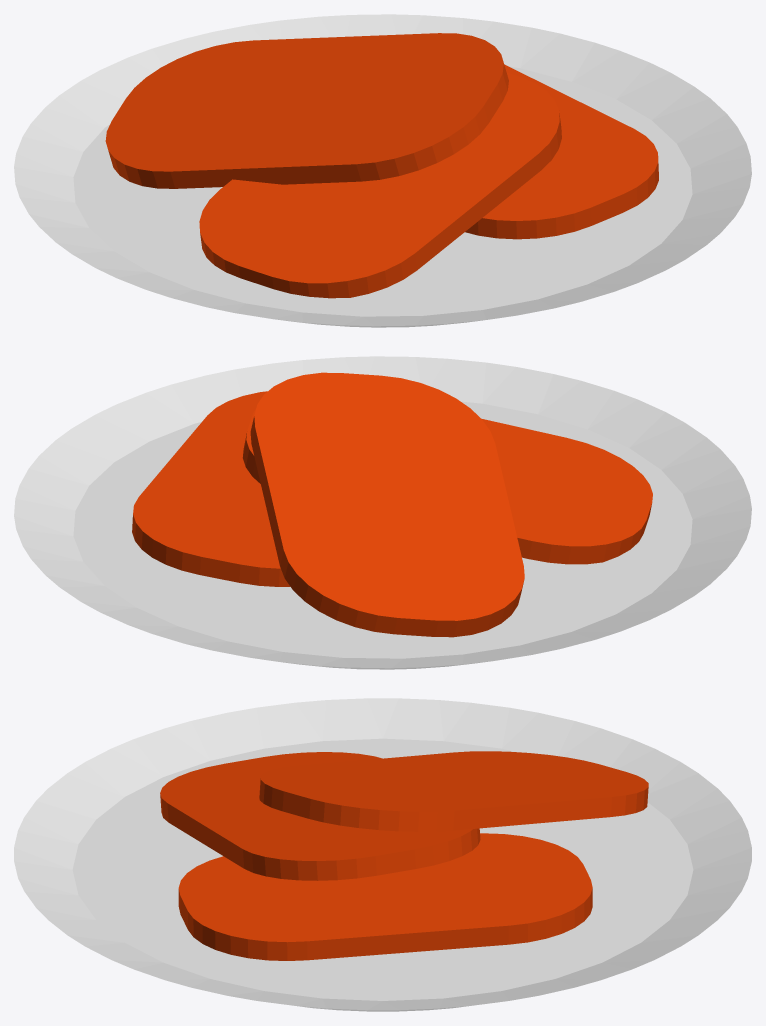
File: ExtraSpamPlated.fbx
The picture shows the model from 3 angles, top to bottom: view 1: azimuth 30°, elevation 25°; view 2: azimuth 150°, elevation 25°; view 3: azimuth 270°, elevation 25°; orthographic projection.
Visible parts, largest first — view 1: Plate, SpamCookedPortion, SpamCookedPortion.001, SpamCookedPortion.002; view 2: Plate, SpamCookedPortion, SpamCookedPortion.002, SpamCookedPortion.001; view 3: Plate, SpamCookedPortion.002, SpamCookedPortion, SpamCookedPortion.001.
Part boxes in pixels (x1,y1,x2,y2): Plate: (14, 14, 751, 327); SpamCookedPortion: (105, 33, 508, 188); SpamCookedPortion.001: (199, 72, 561, 298); SpamCookedPortion.002: (465, 64, 658, 239); Plate: (14, 356, 751, 669); SpamCookedPortion: (250, 372, 524, 637); SpamCookedPortion.002: (132, 391, 290, 586); SpamCookedPortion.001: (242, 409, 652, 564); Plate: (14, 698, 751, 1011); SpamCookedPortion.002: (178, 833, 592, 960); SpamCookedPortion: (259, 751, 648, 831); SpamCookedPortion.001: (160, 752, 480, 880).
Bounding box in the file's own units: 56.9 × 11.16 × 56.9.
